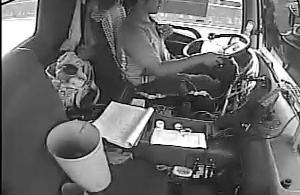paper: (89, 98, 156, 148)
